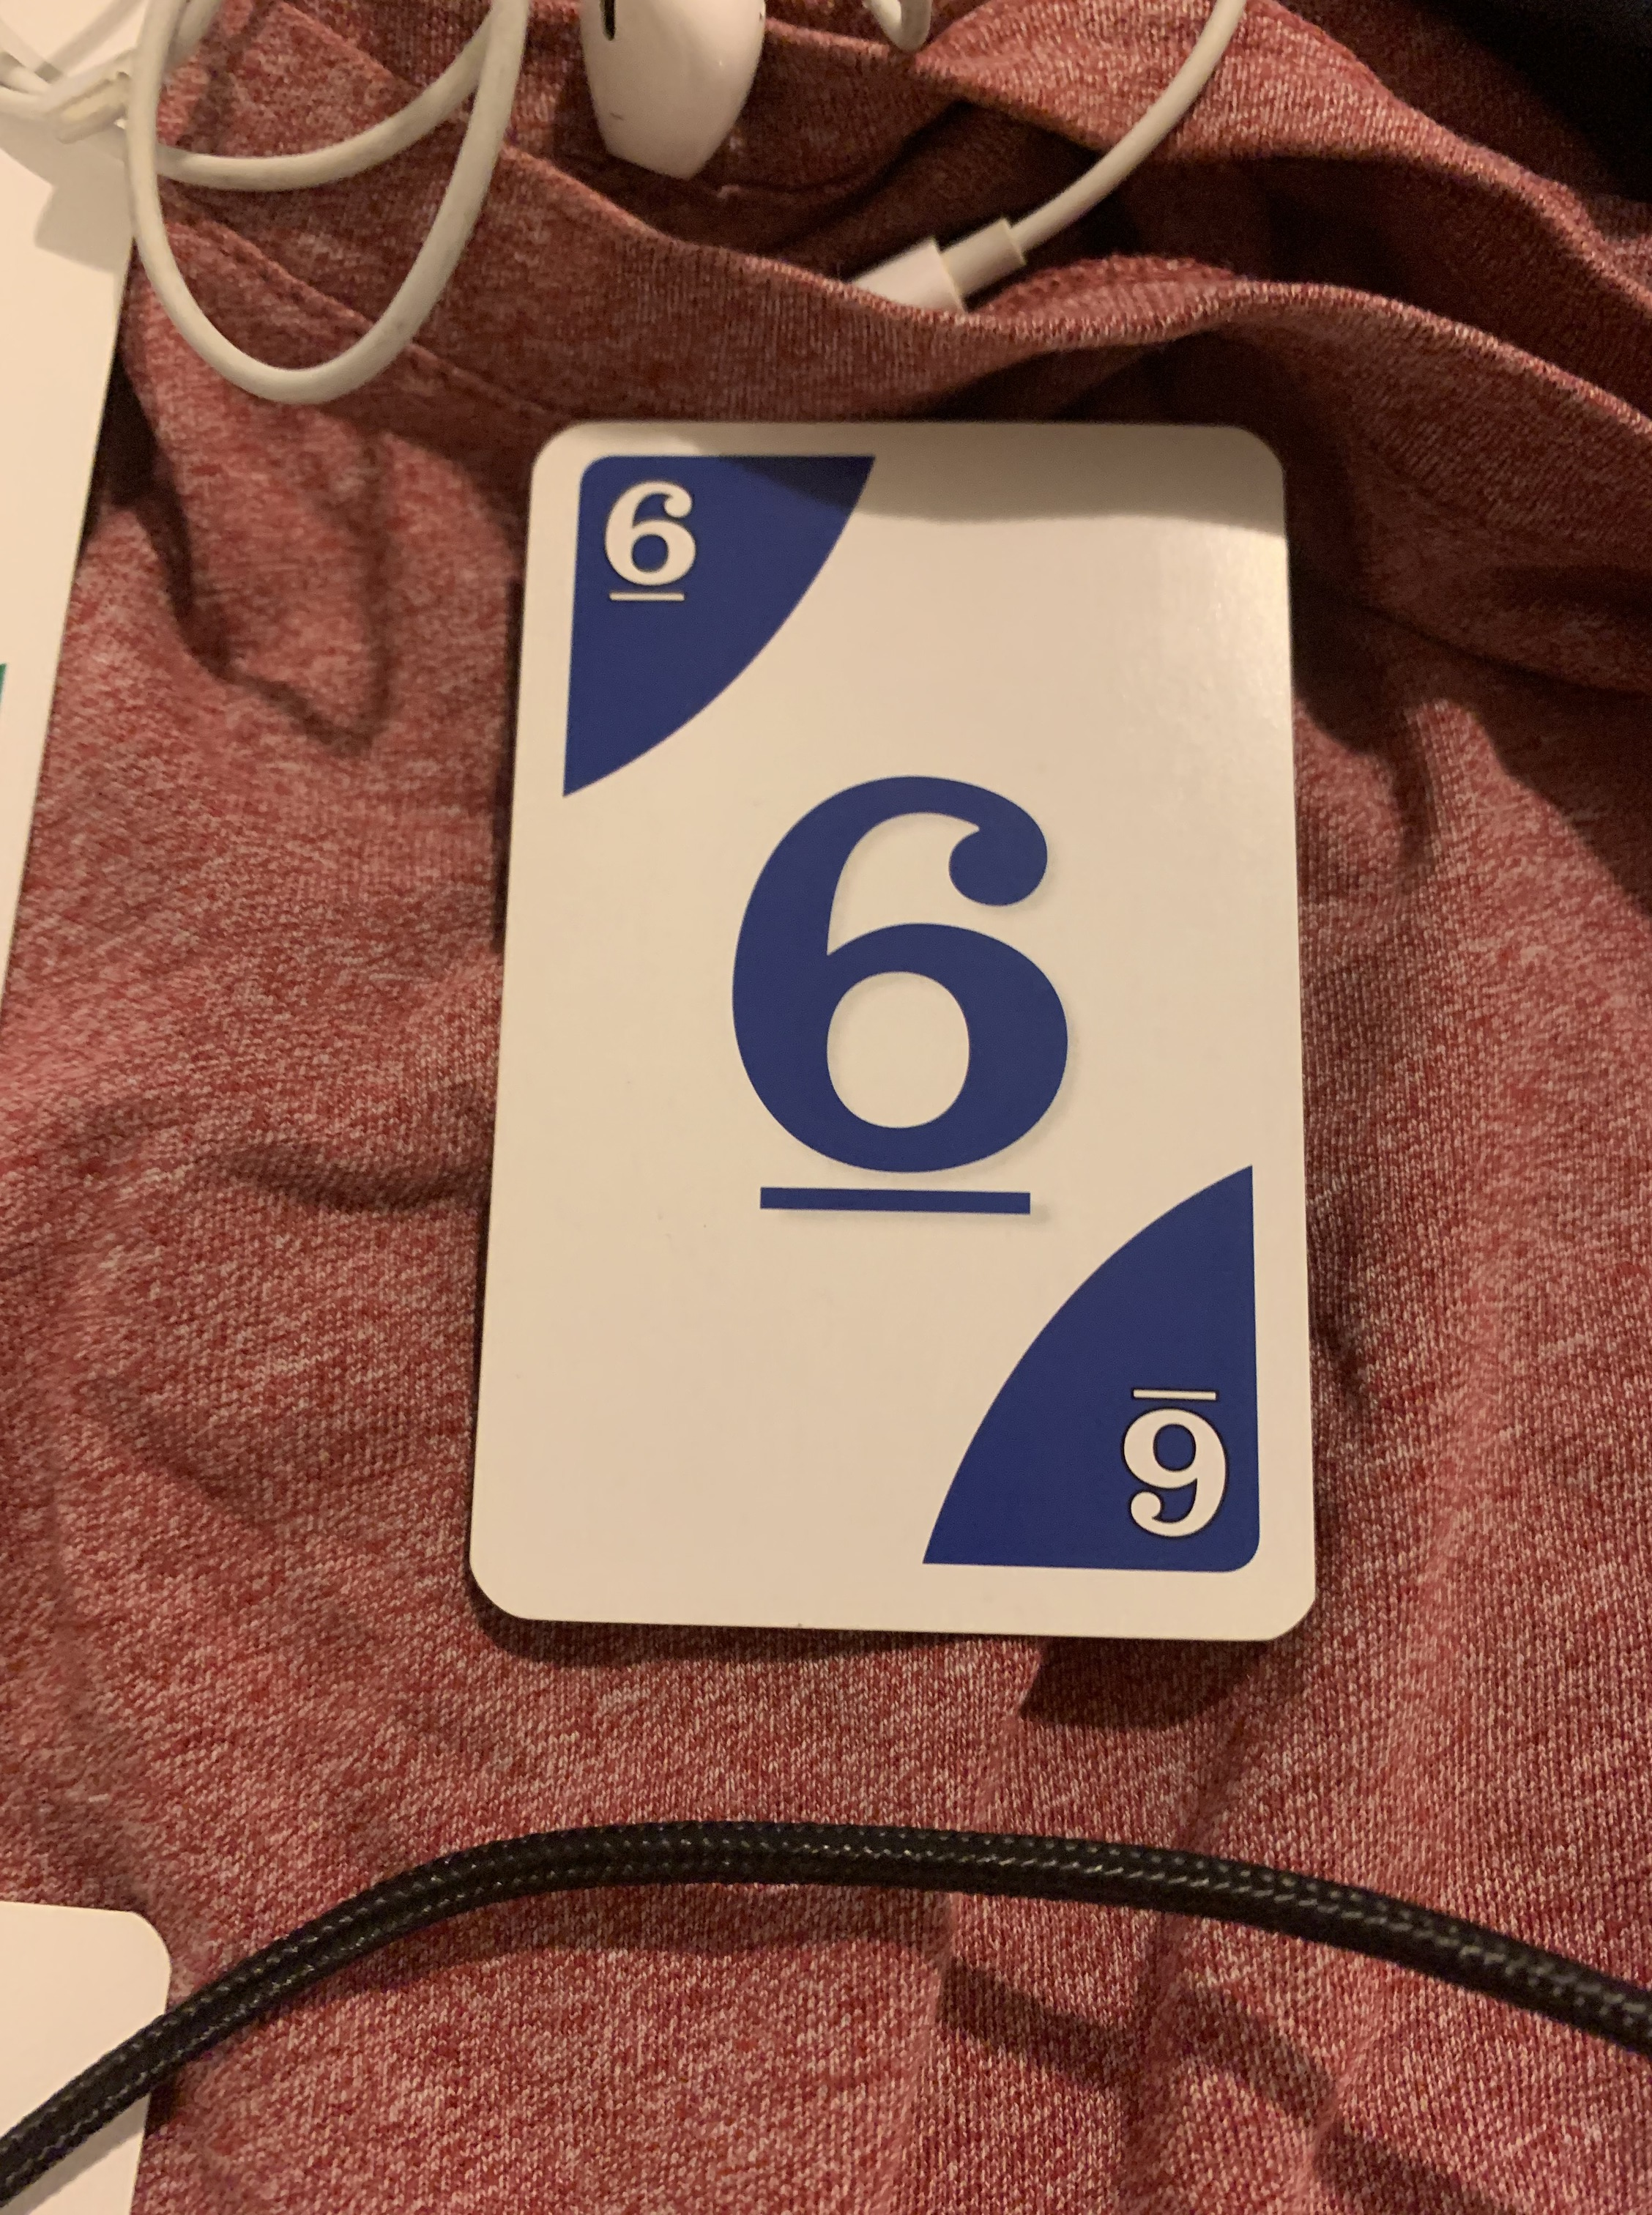six: (446, 398, 1327, 1665)
